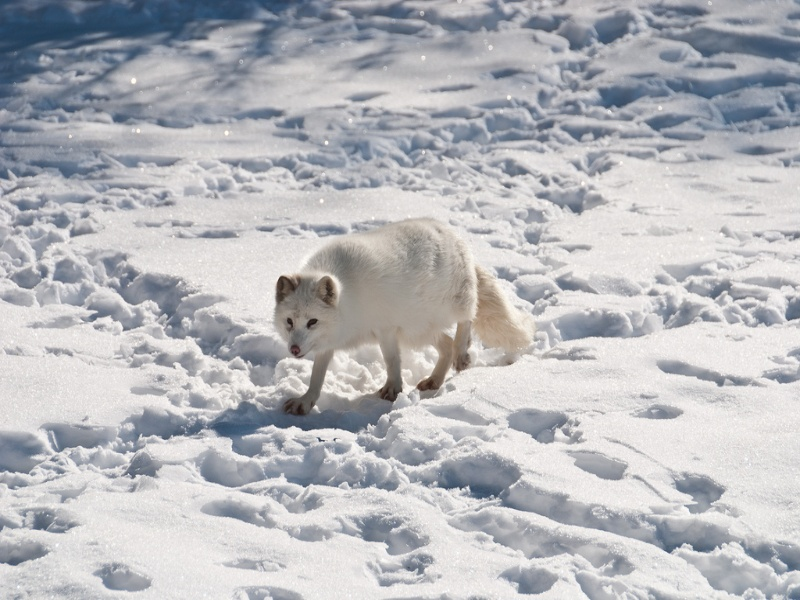fox: (271, 217, 531, 424)
